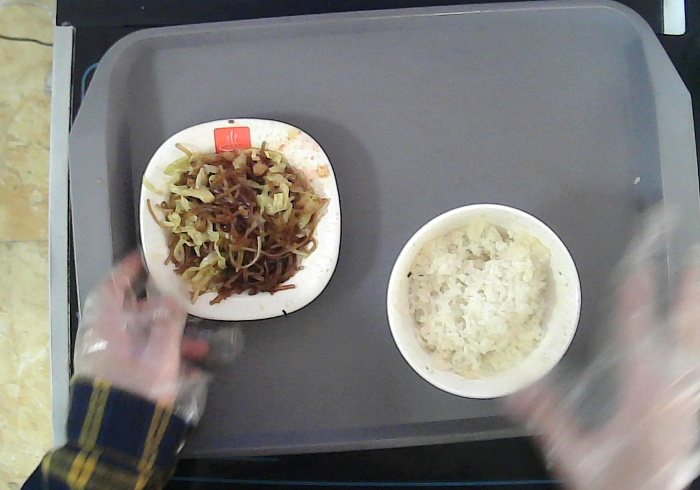SHKJ-Bai_Se_Si_Fang_Cai_Die: (138, 116, 342, 321)
SHKJ-Fan_Wan: (384, 201, 583, 400)
